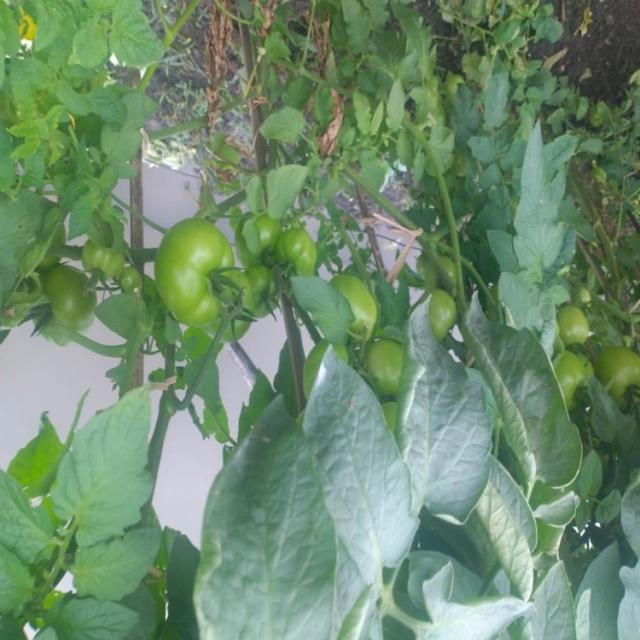tomato: (156, 206, 234, 338), (35, 261, 101, 362), (586, 335, 640, 417), (334, 265, 383, 341), (271, 215, 325, 270), (549, 340, 590, 403), (426, 273, 461, 345), (363, 340, 408, 393), (539, 287, 585, 338), (250, 210, 299, 255), (74, 236, 115, 284), (247, 263, 279, 313)
